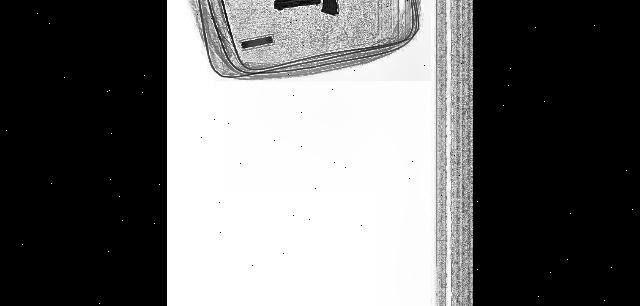Gun: (282, 0, 348, 19), (270, 0, 321, 13)
